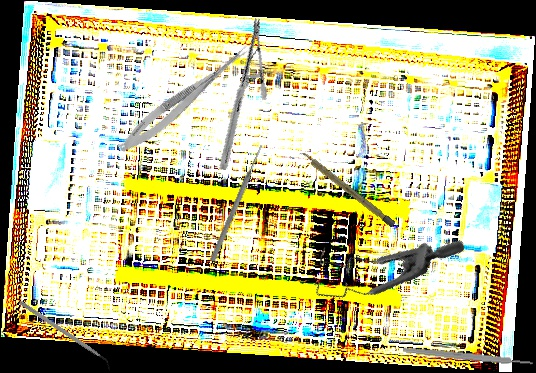Chopper: (14, 299, 116, 373)
Micro Scissor: (114, 37, 254, 159)
Needle Holder: (182, 16, 299, 172)
Pusher: (208, 143, 266, 263)
Scalpel Handle: (298, 149, 396, 228), (402, 346, 534, 367)
Speculum: (296, 175, 468, 347)
